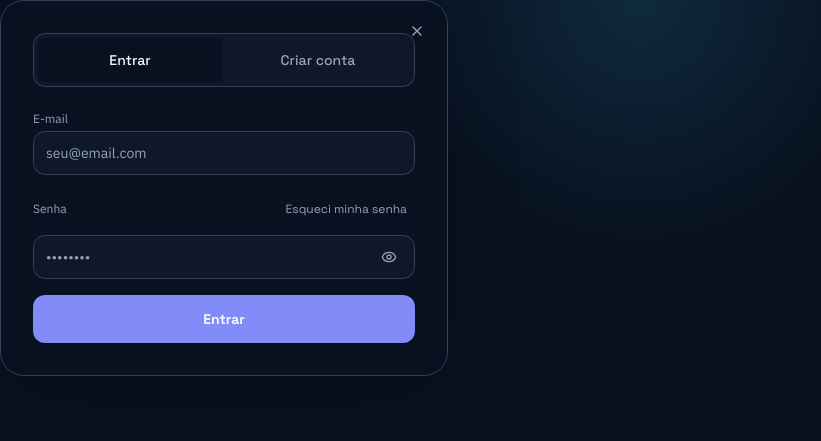
Test: AuthPanel › muda para aba "Criar conta" ao clicar
// Clica na tab de criar conta (não no botão de submit)
Step 1. Click the button "Criar conta" → x=318, y=60, box [226, 38, 410, 82]
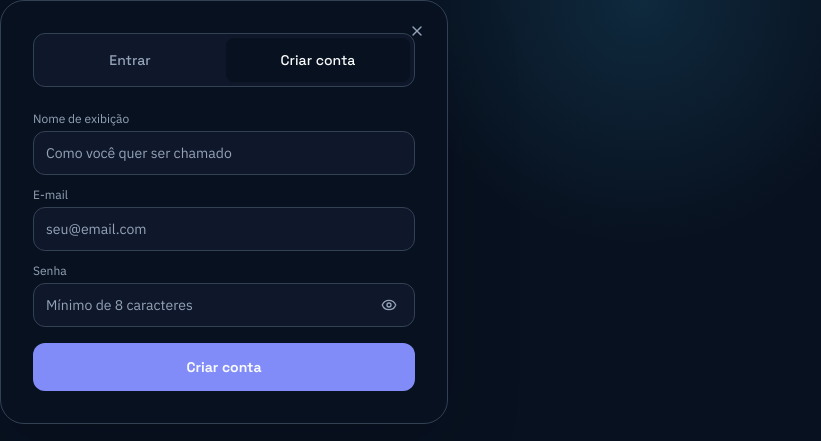
Expected: the field with placeholder "Como você quer ser chamado" is shown, [33, 131, 415, 175]
